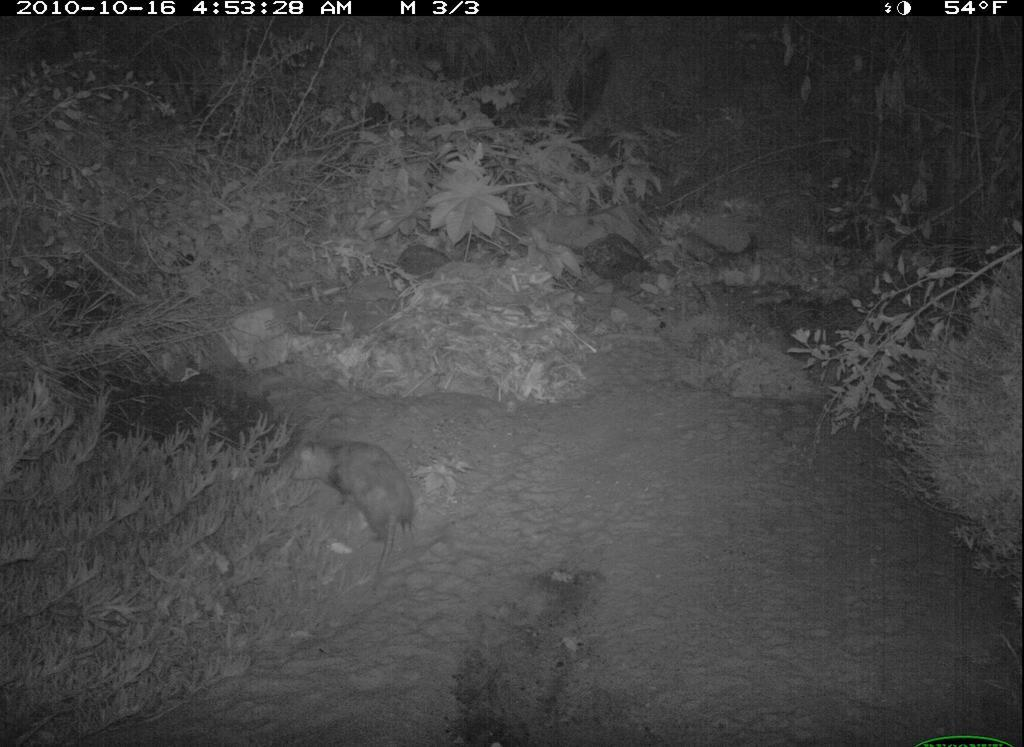opossum: (289, 423, 436, 606)
